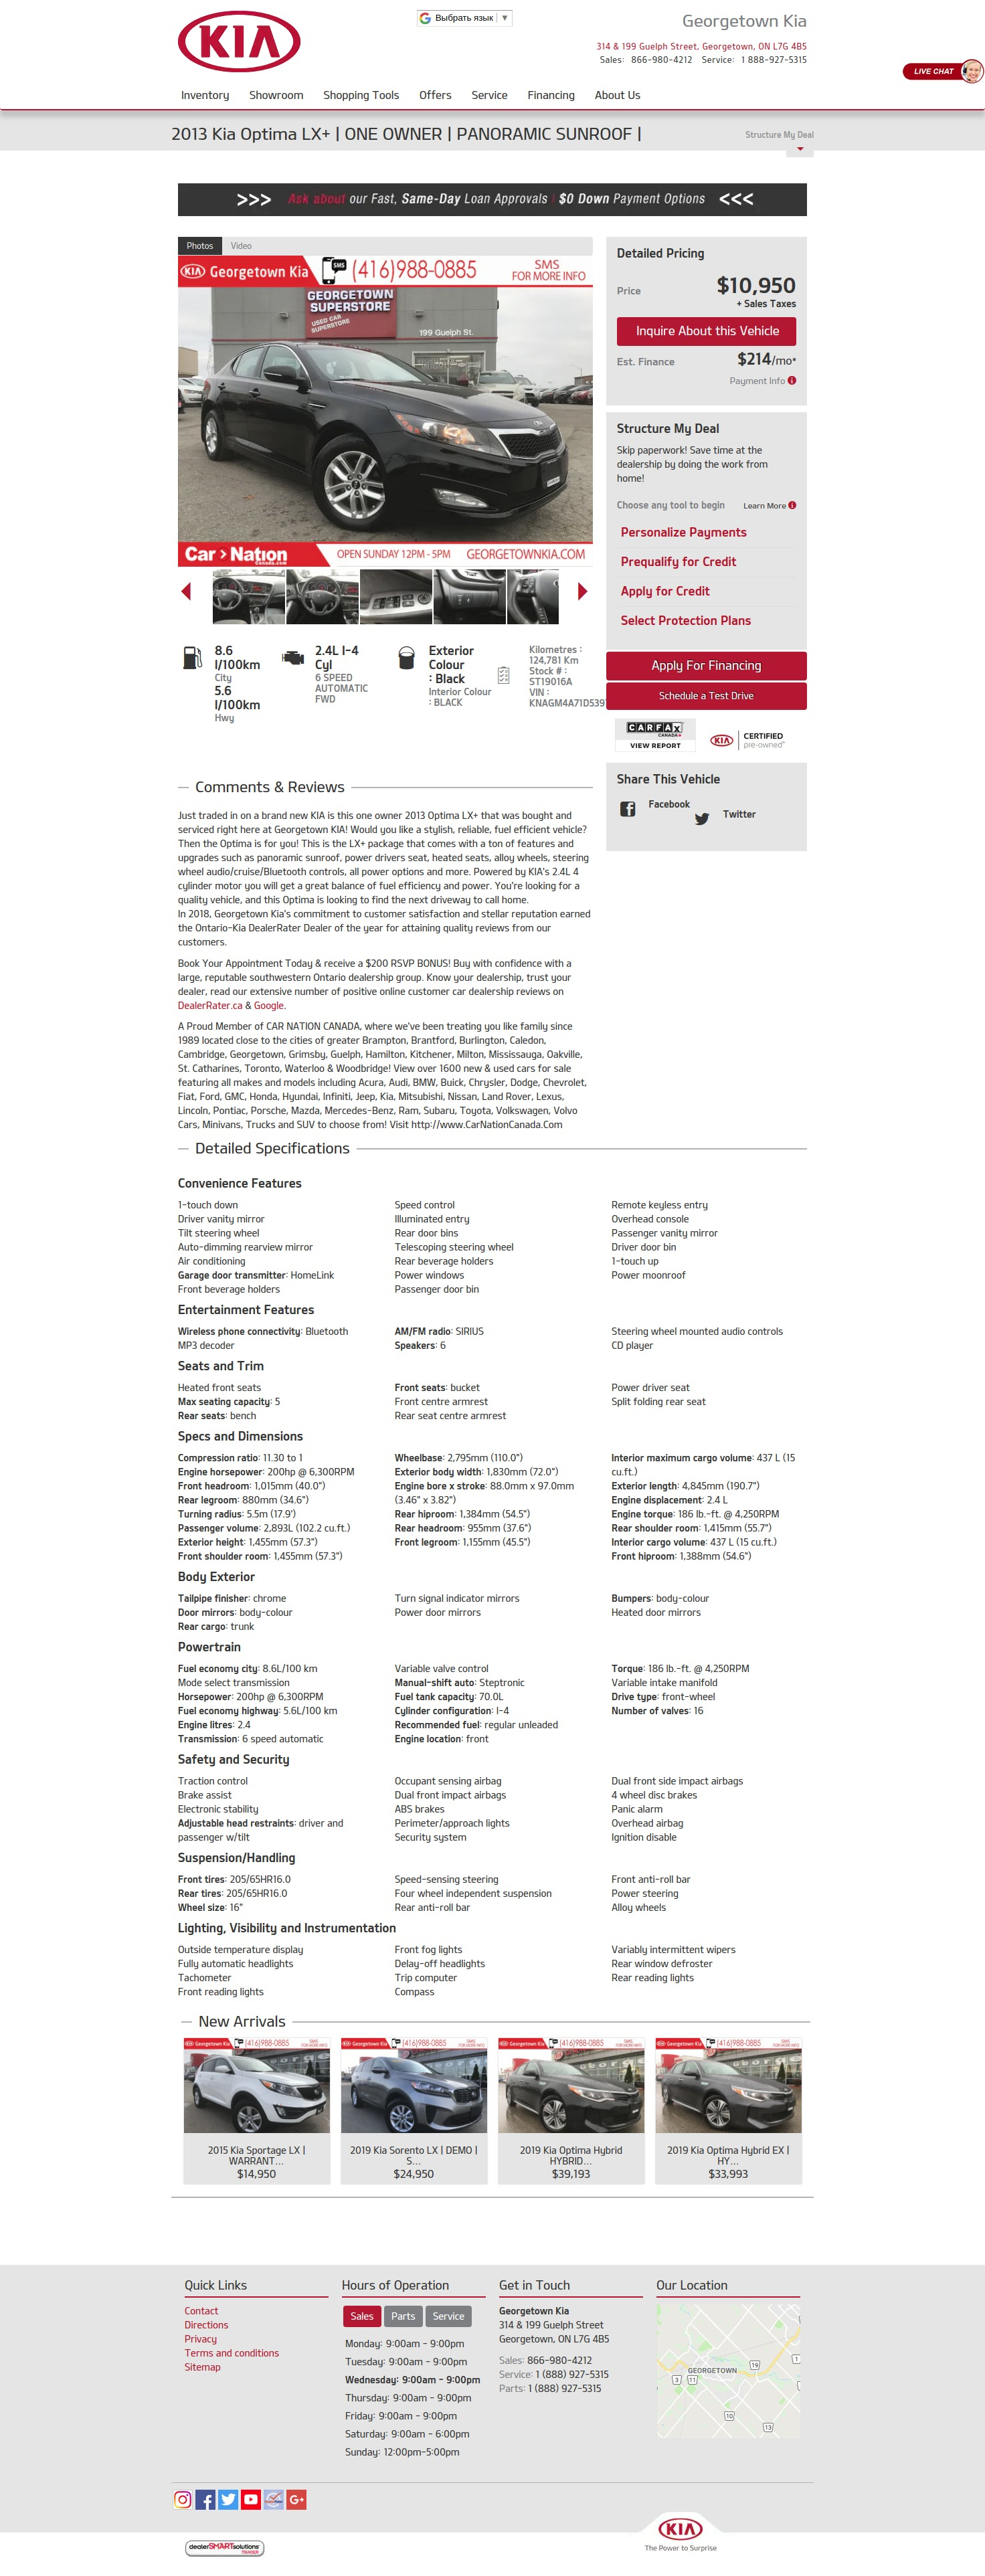car: (578, 582, 588, 601)
